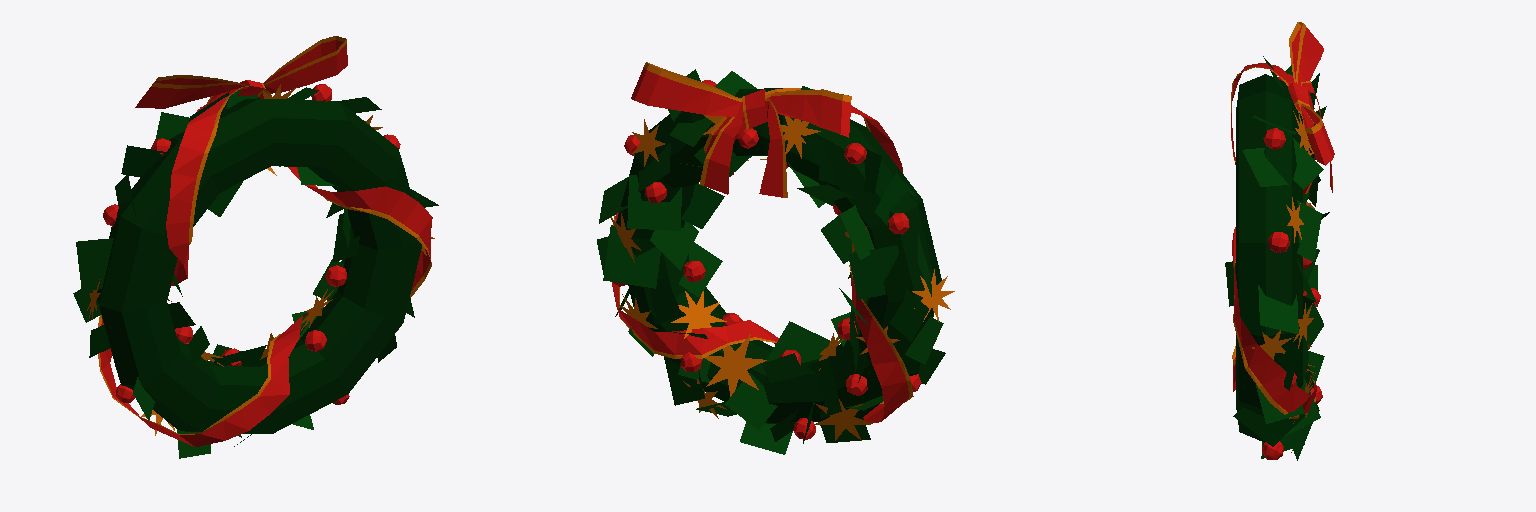
The model's file is garland.obj.
The picture shows the model from 3 angles: view 1: azimuth 30°, elevation 25°; view 2: azimuth 150°, elevation 25°; view 3: azimuth 270°, elevation 25°; orthographic projection.
Parts seen in each view (by area): view 1: garland_Torus; view 2: garland_Torus; view 3: garland_Torus.
Part boxes in pixels (x1,y1,x2,y2): garland_Torus: (73, 36, 438, 458); garland_Torus: (597, 62, 954, 454); garland_Torus: (1225, 22, 1334, 460).
Size of the model in its own units: 0.5588 by 0.5872 by 0.1529.